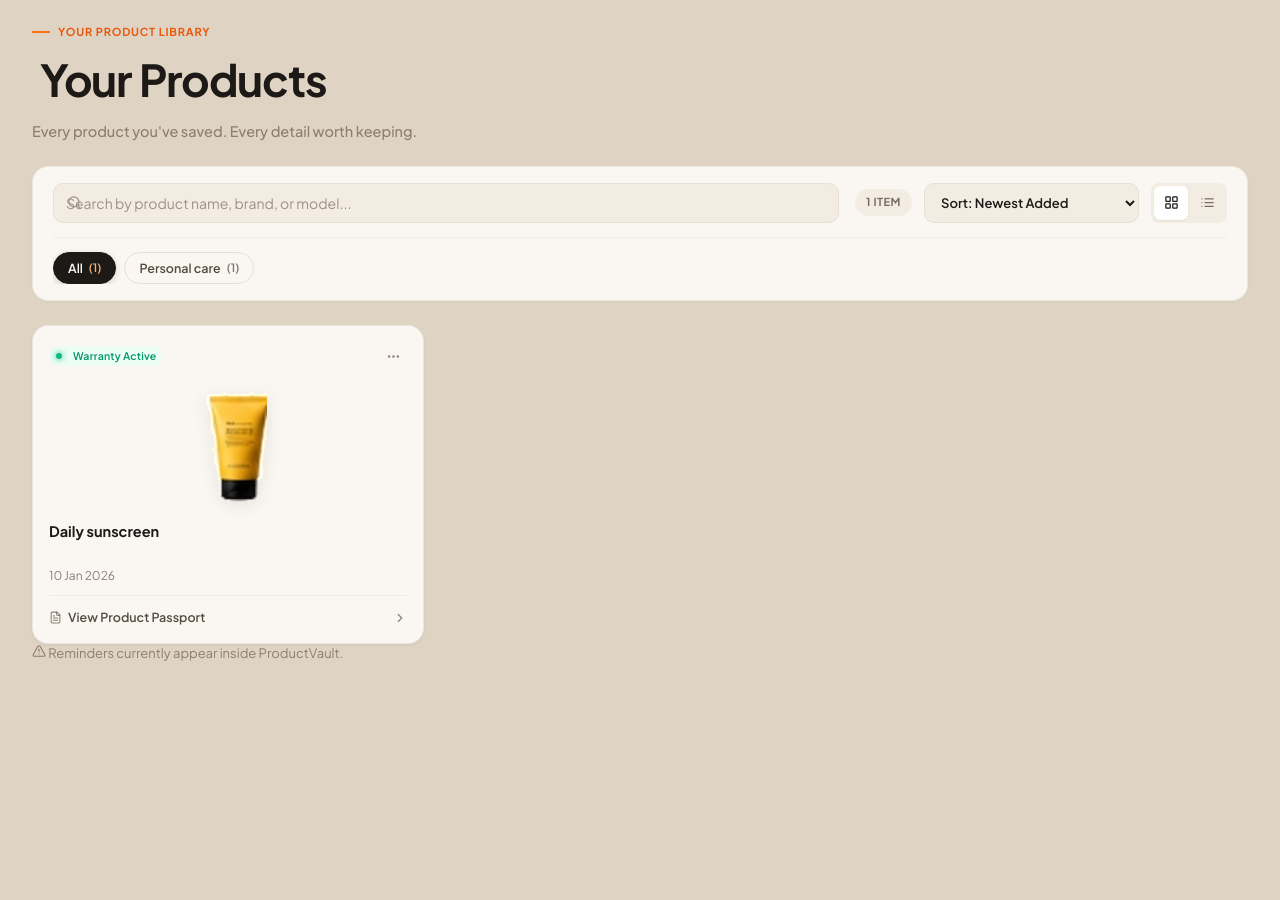
Test: account-backed product tools › shows a product timeline across warranty, claims, price checks, and reminders
Click the button with aria-label "view timeline for daily sunscreen" at (137, 617), box x1=49 y1=604 x2=407 y2=631
(page scrolled)
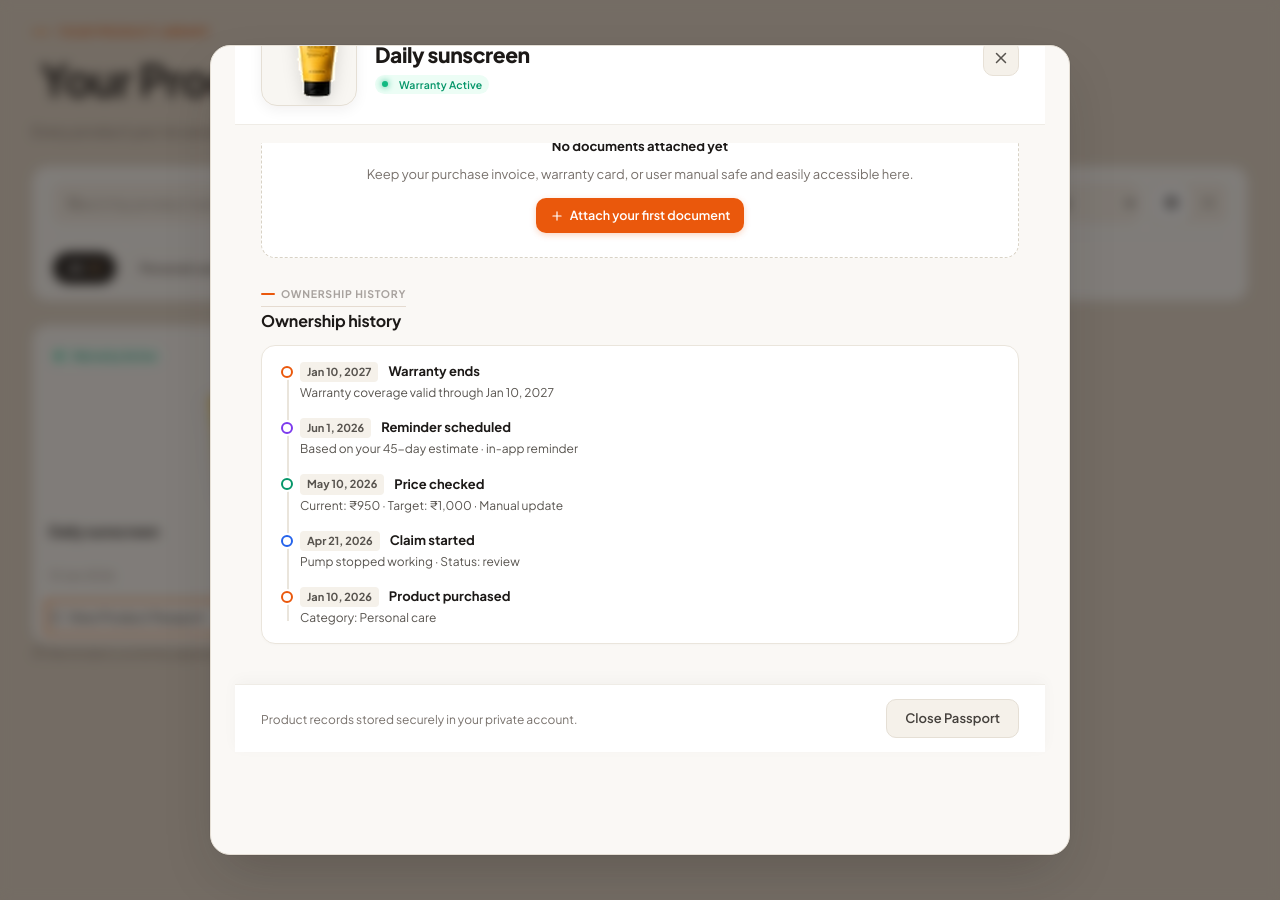
Expected: the heading named "daily sunscreen timeline" is shown, x1=261 y1=309 x2=406 y2=333
Expected: the text "Product purchased" is shown, x1=389 y1=587 x2=510 y2=607
Expected: the text "Warranty ends" is shown, x1=388 y1=362 x2=480 y2=382
